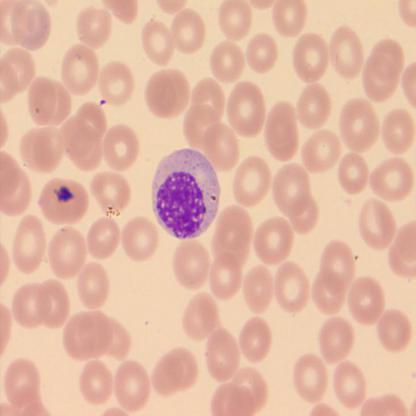Metamyelocyte: (149, 144, 222, 241)
